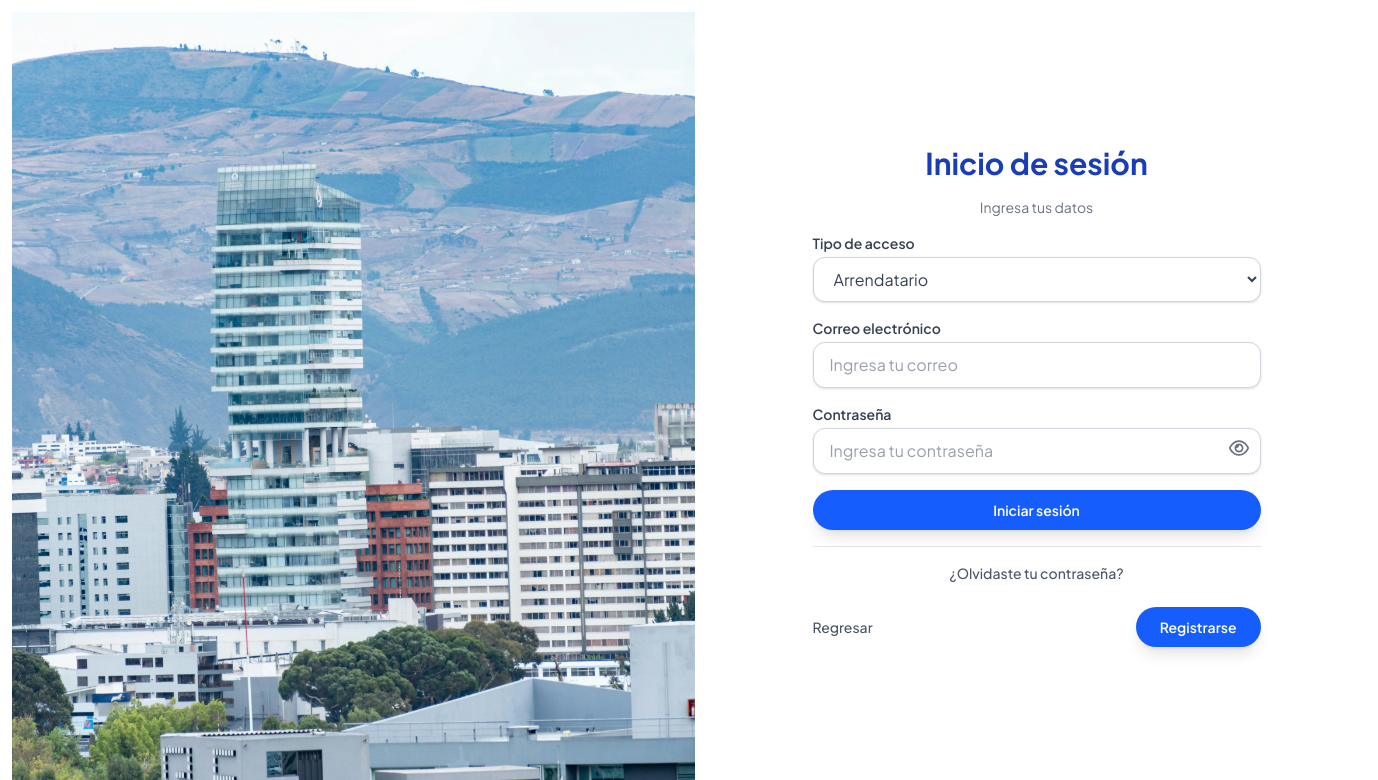
Test: Debe mostrar errores si los campos están vacíos al intentar ingresar
This screenshot has width=1378, height=780.
Step 1. Click the button "Iniciar sesión" → (1036, 510), box [812,490,1260,530]
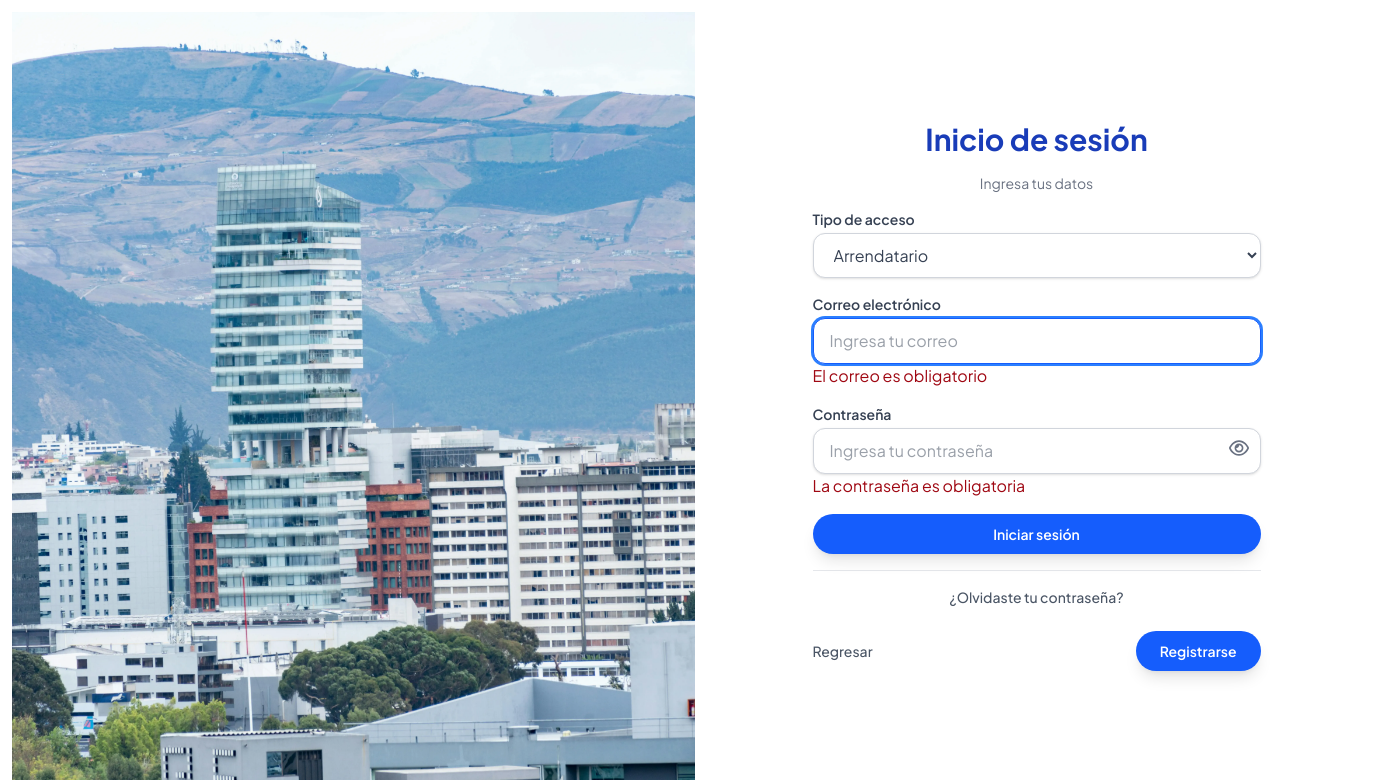
Check: the text "El correo es obligatorio" is shown, box [812,365,987,386]
Check: the text "La contraseña es obligatoria" is shown, box [812,475,1025,496]
